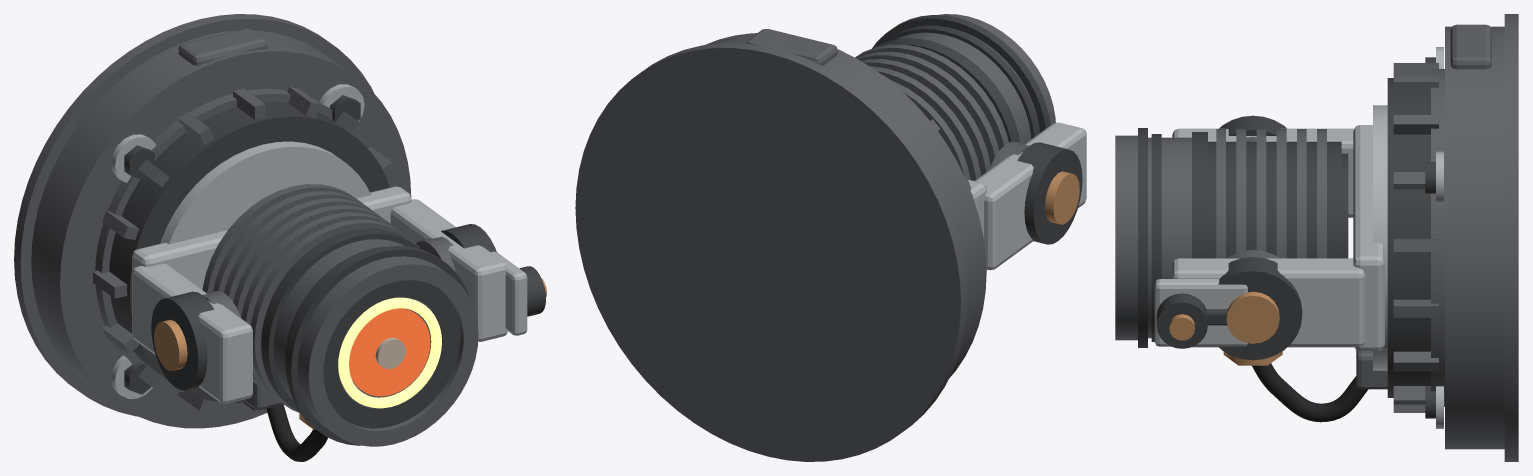
The model's file is ThroatLamp.fbx.
3 renders of one model, left to right at view 1: azimuth 30°, elevation 25°; view 2: azimuth 150°, elevation 25°; view 3: azimuth 270°, elevation 25°, orthographic. The views are drawn at different scales.
Parts seen in each view (by area): view 1: Mount_Plate, Yaw_Ring, Mount_Plate_Top, Head_Nozzle_Rim, Yaw_Collar, Yoke_Arm_L, Head_Nozzle_Bowl, Yoke_Arm_R, Head_Lens, Yaw_Ring_Shoulder, Head_Nozzle_Shoulder, Yoke_TopBar (+31 smaller); view 2: Mount_Plate_Top, Mount_Plate, Yoke_Arm_L, Yoke_Boss_L, Head_Nozzle_Shoulder, Head_Housing, Head_Fin_05, Head_Fin_06, Head_Fin_04, Head_MidCollar, Head_Fin_03, Head_Housing_Rib (+4 smaller); view 3: Mount_Plate, Yaw_Ring, Head_FinHub, Yoke_Arm_R, Mount_Plate_Top, Yoke_TopBar, Head_Housing, Head_Nozzle_Rim, Yoke_Boss_R, Yaw_Ring_Shoulder, Yoke_Lever_Plate, Yaw_Collar (+27 smaller).
Part boxes in pixels (x1,y1,x2,y2): Mount_Plate: (31, 30, 411, 428); Yaw_Ring: (109, 101, 389, 402); Mount_Plate_Top: (14, 14, 373, 416); Head_Nozzle_Rim: (297, 256, 478, 446); Yaw_Collar: (160, 141, 370, 244); Yoke_Arm_L: (132, 263, 252, 403); Head_Nozzle_Bowl: (323, 280, 460, 428); Yoke_Arm_R: (390, 199, 507, 341); Head_Lens: (349, 308, 430, 396); Yaw_Ring_Shoulder: (95, 89, 367, 392); Head_Nozzle_Shoulder: (286, 246, 469, 445); Yoke_TopBar: (132, 186, 411, 289); Mount_Plate_Top: (575, 43, 967, 461); Mount_Plate: (705, 33, 986, 377); Yoke_Arm_L: (975, 122, 1086, 270); Yoke_Boss_L: (1017, 142, 1082, 244); Head_Nozzle_Shoulder: (872, 15, 1050, 132); Head_Housing: (897, 32, 1039, 143); Head_Fin_05: (856, 51, 998, 165); Head_Fin_06: (855, 44, 1008, 150); Head_Fin_04: (861, 59, 990, 175); Head_MidCollar: (873, 38, 1019, 142); Head_Fin_03: (870, 66, 980, 180); Head_Housing_Rib: (882, 25, 1039, 139); Mount_Plate: (1445, 26, 1504, 449); Yaw_Ring: (1387, 78, 1430, 397); Head_FinHub: (1208, 141, 1341, 258); Yoke_Arm_R: (1172, 258, 1365, 347); Mount_Plate_Top: (1504, 14, 1518, 461); Yoke_TopBar: (1353, 125, 1384, 350); Head_Housing: (1148, 137, 1191, 338); Head_Nozzle_Rim: (1115, 135, 1137, 340); Yoke_Boss_R: (1218, 257, 1302, 360); Yaw_Ring_Shoulder: (1431, 69, 1444, 406); Yoke_Lever_Plate: (1154, 279, 1247, 346); Yaw_Collar: (1373, 105, 1387, 370).
Bounding box in the file's own units: 0.456 × 0.456 × 0.41.
